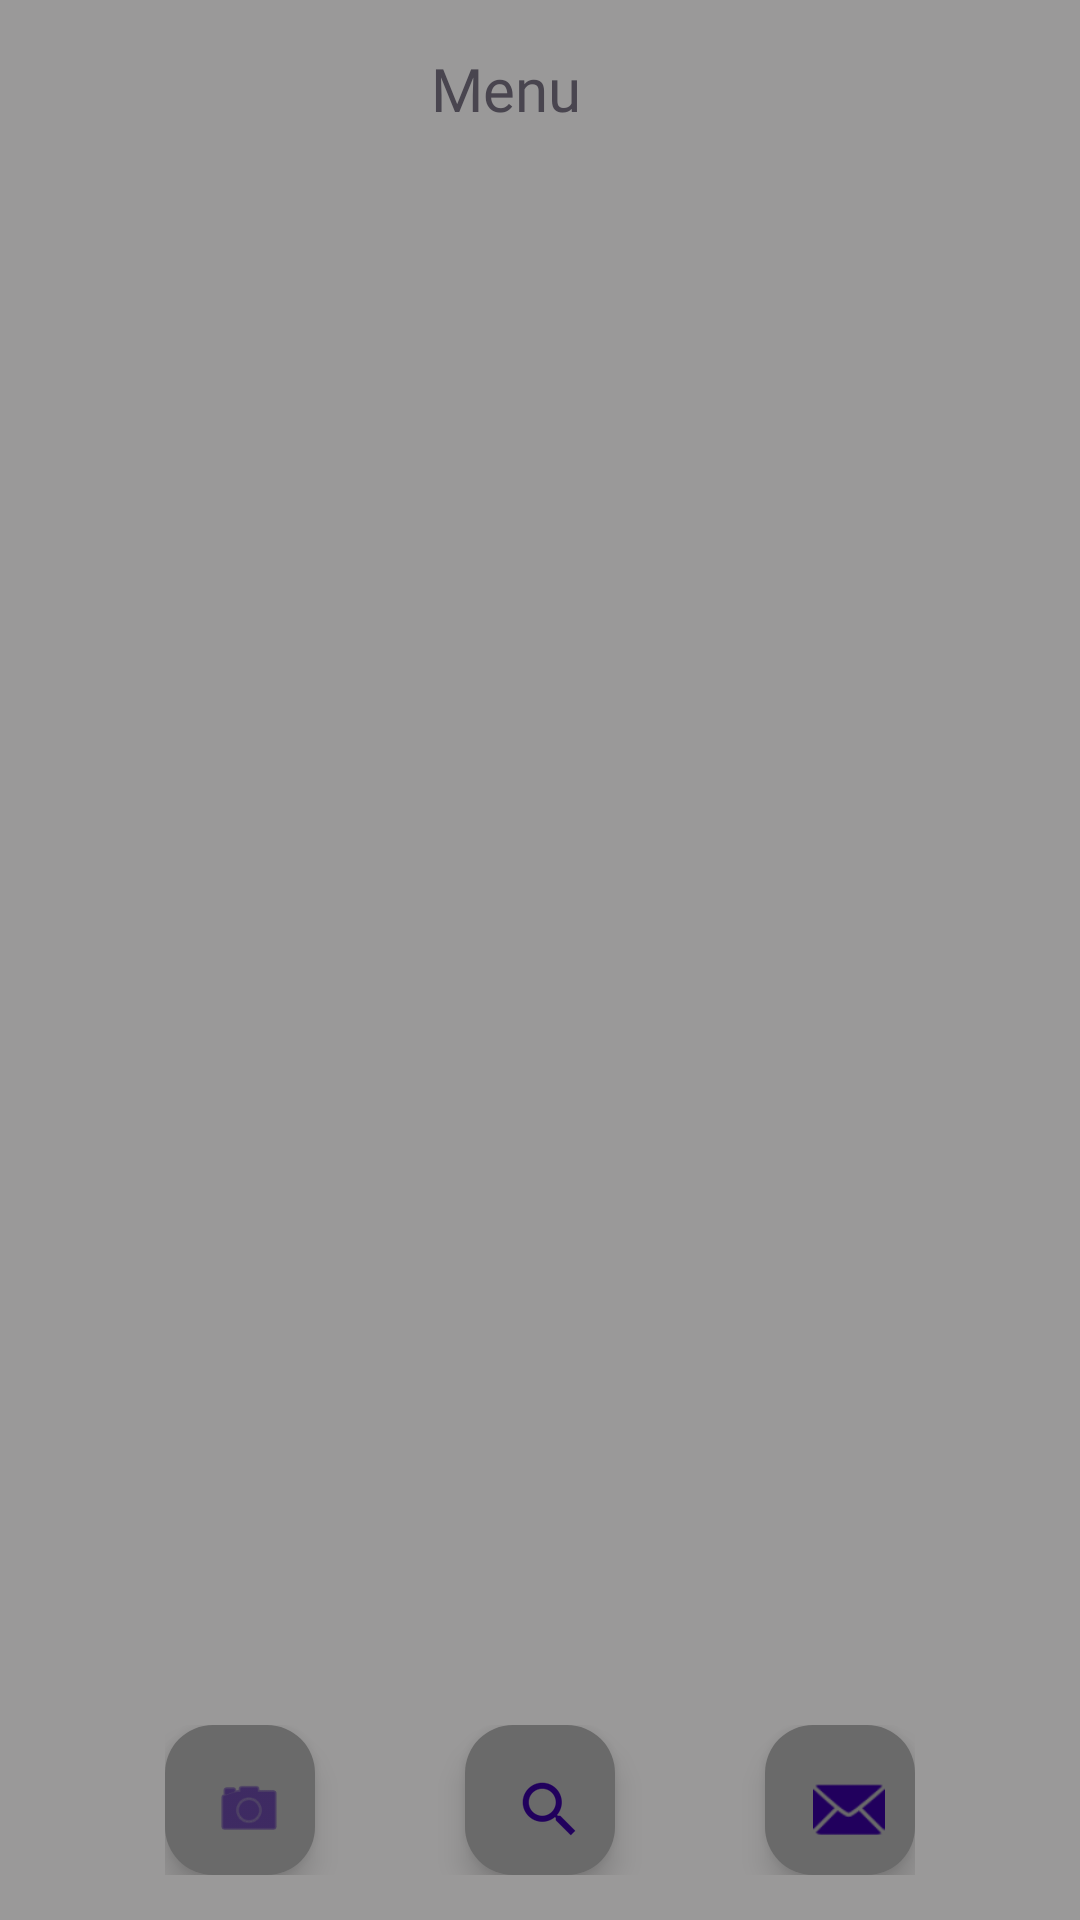

Icon click points for this 1080w x 1920h phone screenshot, format (x=x, y=y):
camera: (x=240, y=1800)
mail: (x=840, y=1800)
search: (x=540, y=1800)
